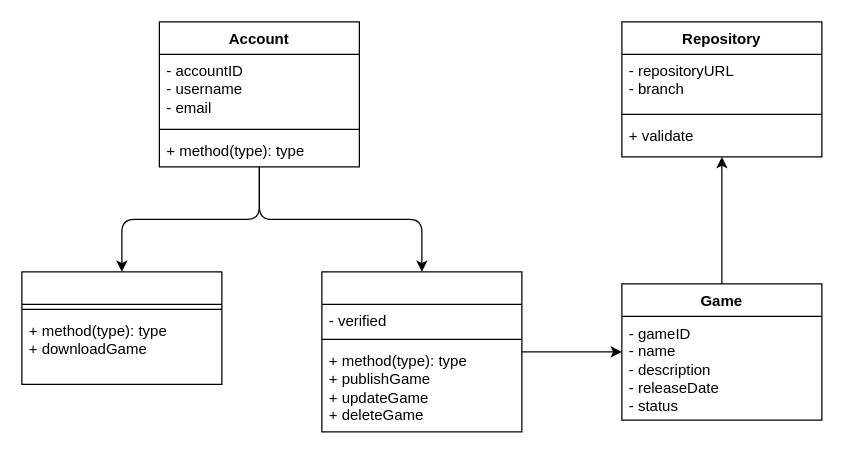
Image size: 844x458. Some labels were removed from this diagram. Here are the shapes that lost their labels. From the top down, the box of each, then its label:
(21, 271, 222, 384): UserAccount
(321, 271, 522, 432): DeveloperAccount
